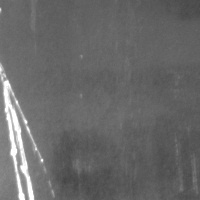scratches: (0, 62, 43, 200)
